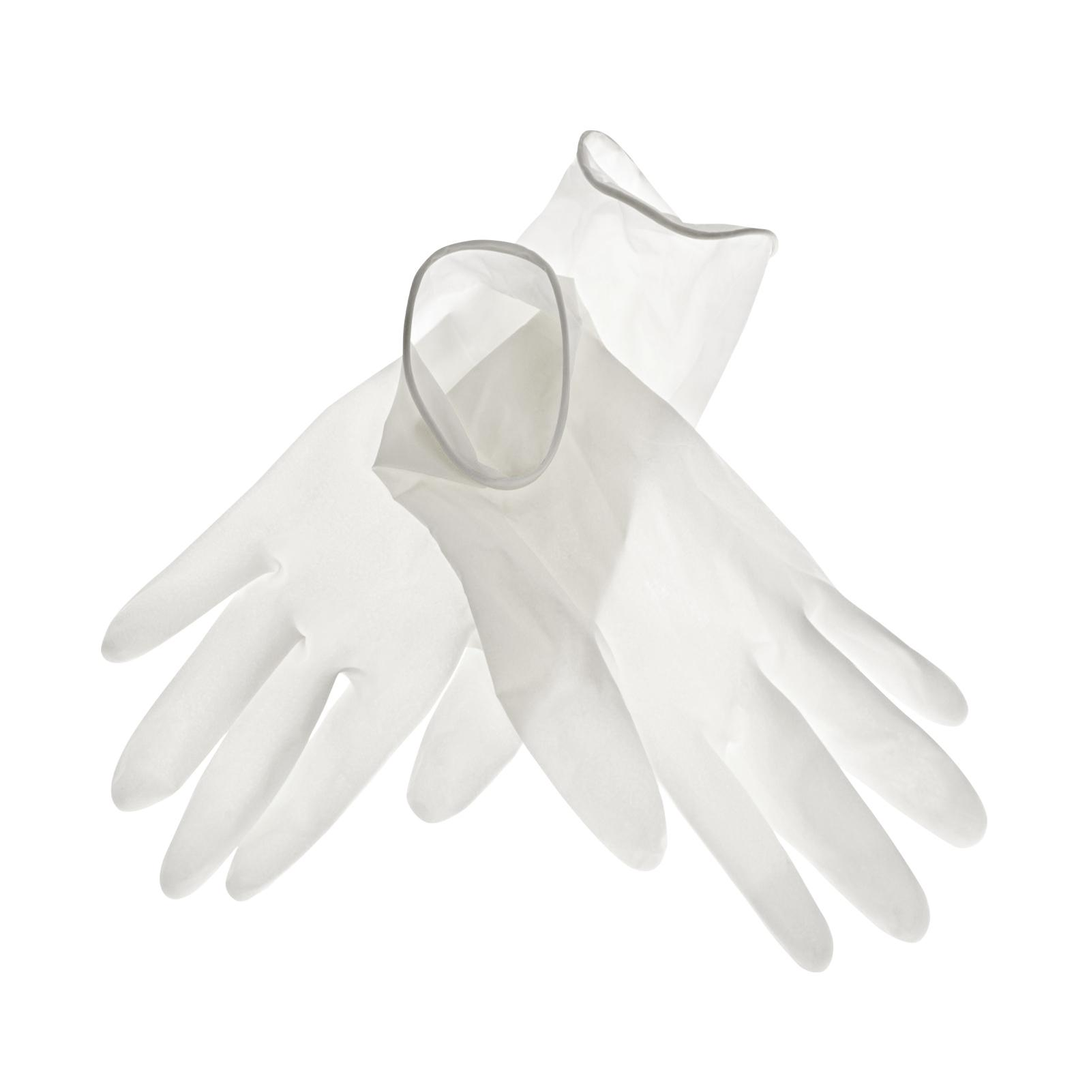gloves: (96, 135, 999, 983)
